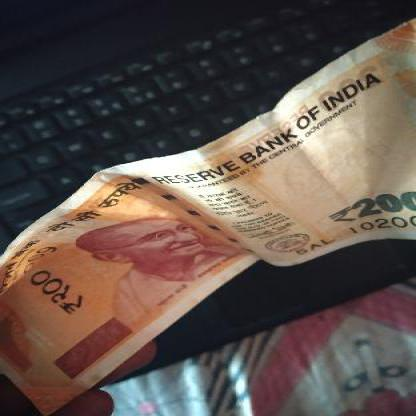New200Front: (1, 20, 415, 388)
